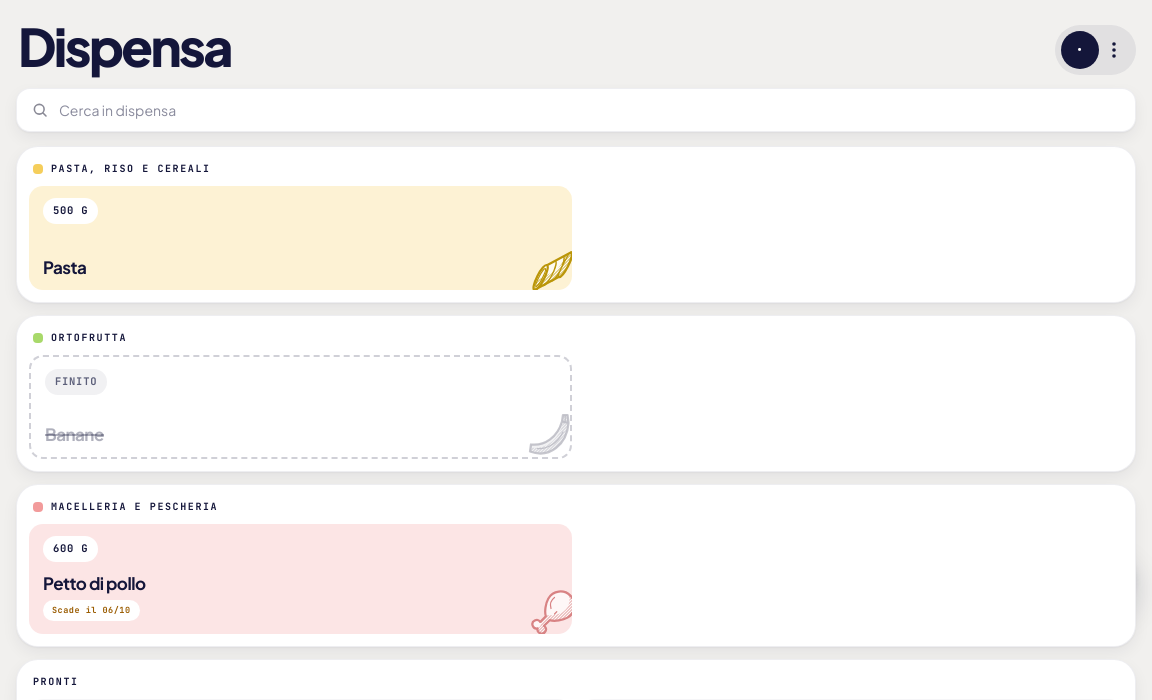
Dispensa: il dettaglio › SALVA del residuo che fallisce: il campo tiene il numero tentato, RIPROVA è premibile e lo rimanda
Click the button with aria-label "Apri Petto di pollo" at x=71, y=549, box [29,524,572,634]
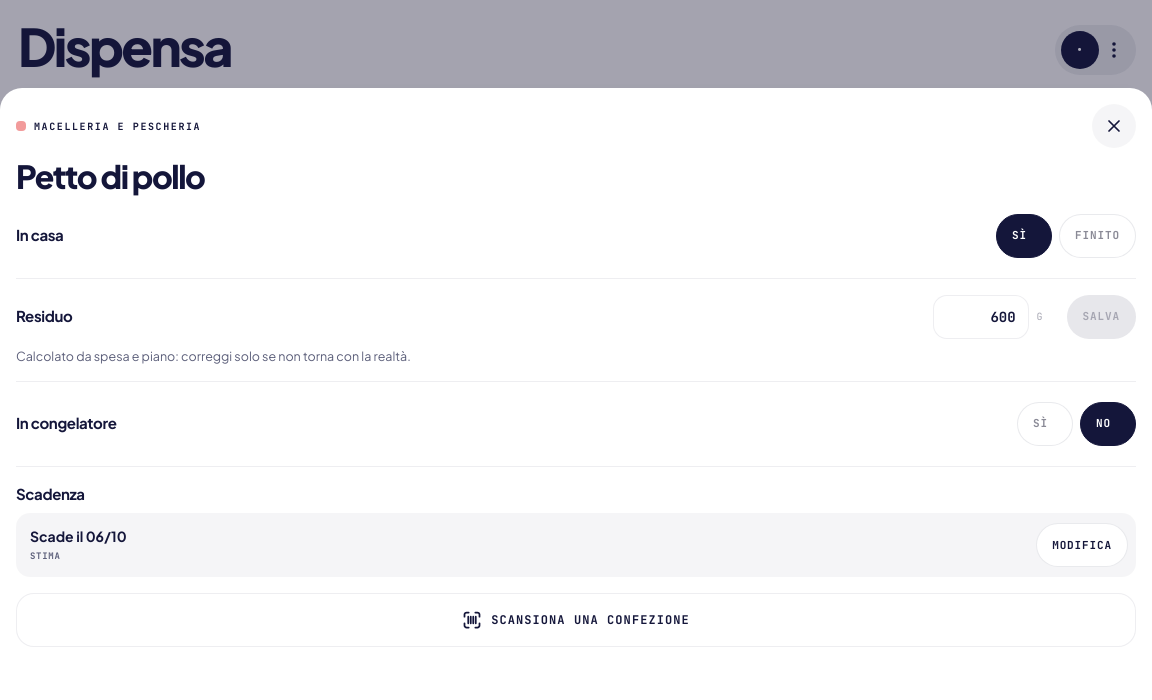
Replace the text in the field named "Residuo di Petto di pollo" with "250" at x=981, y=317, box [933,295,1029,339]
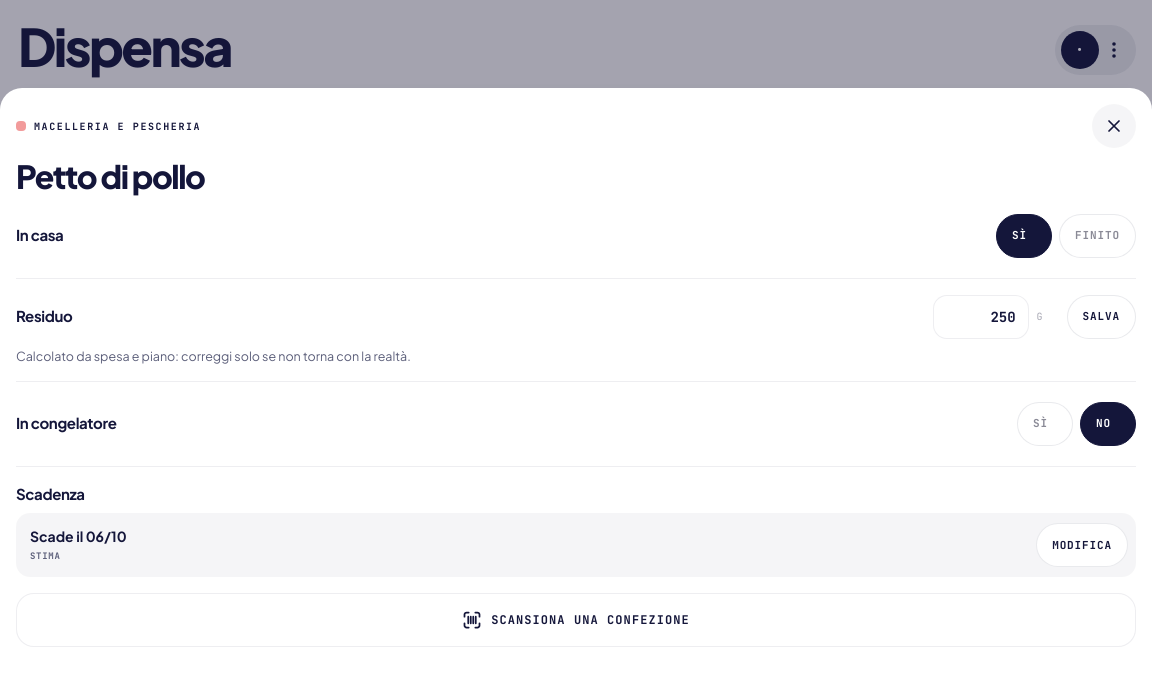
Click the button "SALVA" at x=1101, y=317, box [1067,295,1136,339]
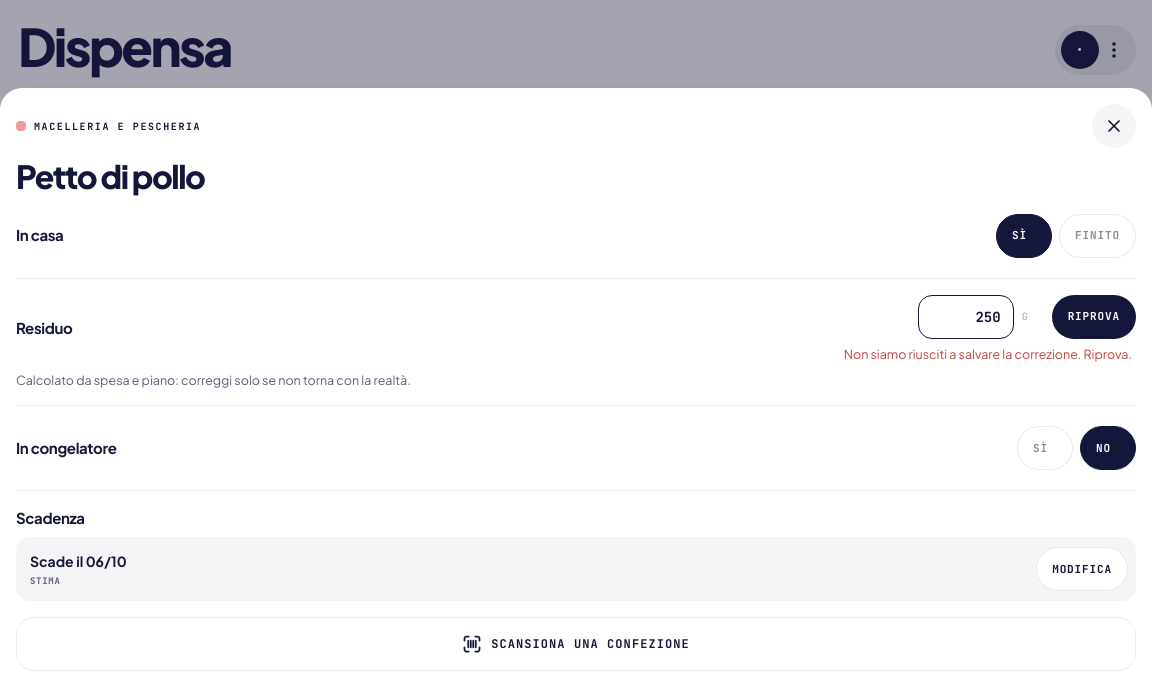
Expected: the button with aria-label "Apri Petto di pollo" shows "600 g", [29,524,572,634]
Now the button "RIPROVA" is enabled
Click the button "RIPROVA" at x=1094, y=317, box [1052,295,1136,339]
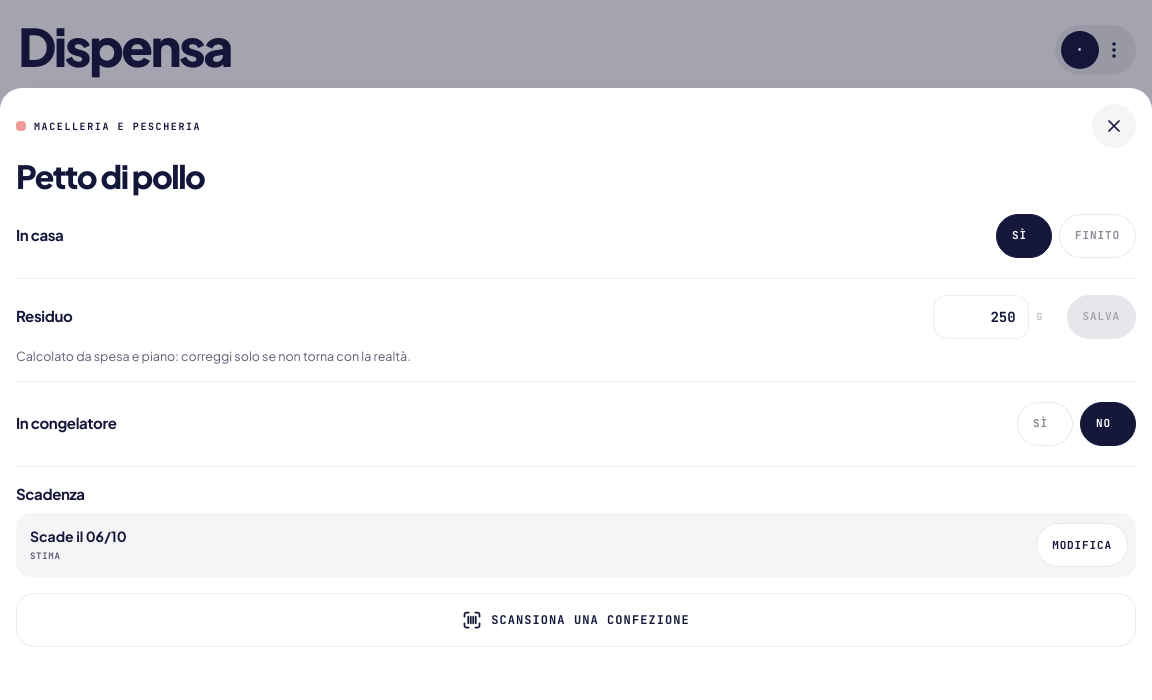
Now the button "SALVA" is disabled, box [1067,295,1136,339]
Now the button with aria-label "Apri Petto di pollo" shows "250 g", box [29,524,572,634]
